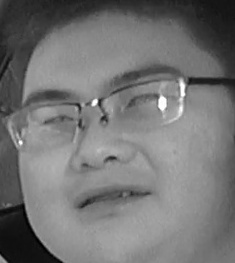glass: (98, 76, 184, 129), (7, 102, 83, 149)
mouth: (68, 180, 146, 220)
